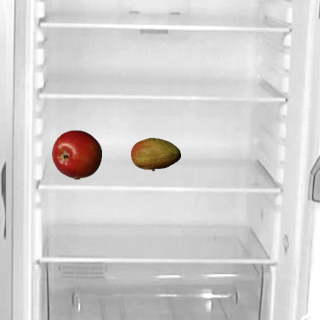Apple Braeburn: (51, 129, 101, 179)
Papaya: (130, 129, 180, 179)
